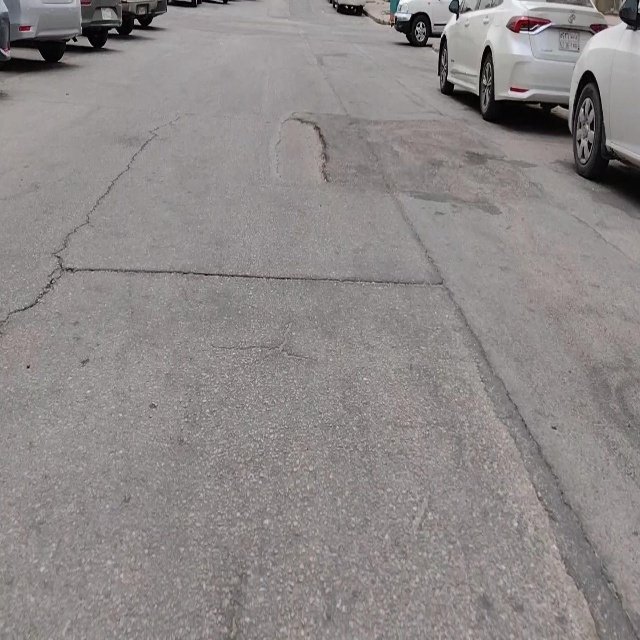pothole: (275, 116, 330, 189)
